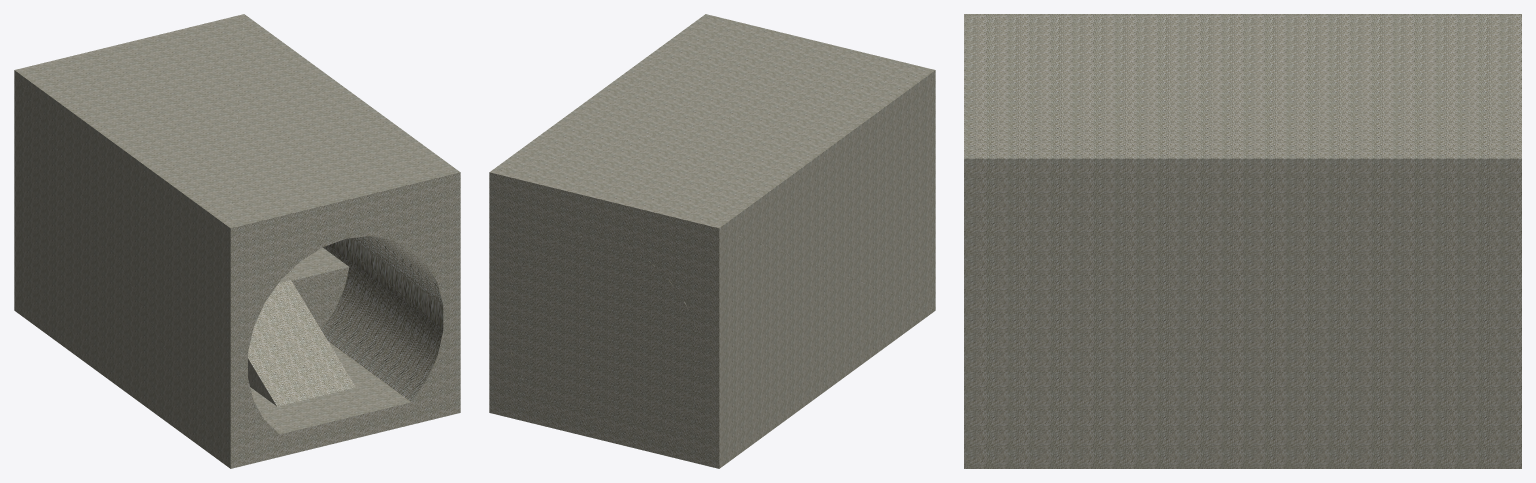
Rendered from ExcavThreeStepPreserveCore1.glb.
3 renders of one model, left to right at view 1: azimuth 30°, elevation 25°; view 2: azimuth 150°, elevation 25°; view 3: azimuth 270°, elevation 25°, orthographic. The views are drawn at different scales.
Size of the model in its own units: 16 by 16 by 26.08.
Materials: 1 (1 with a texture image).
